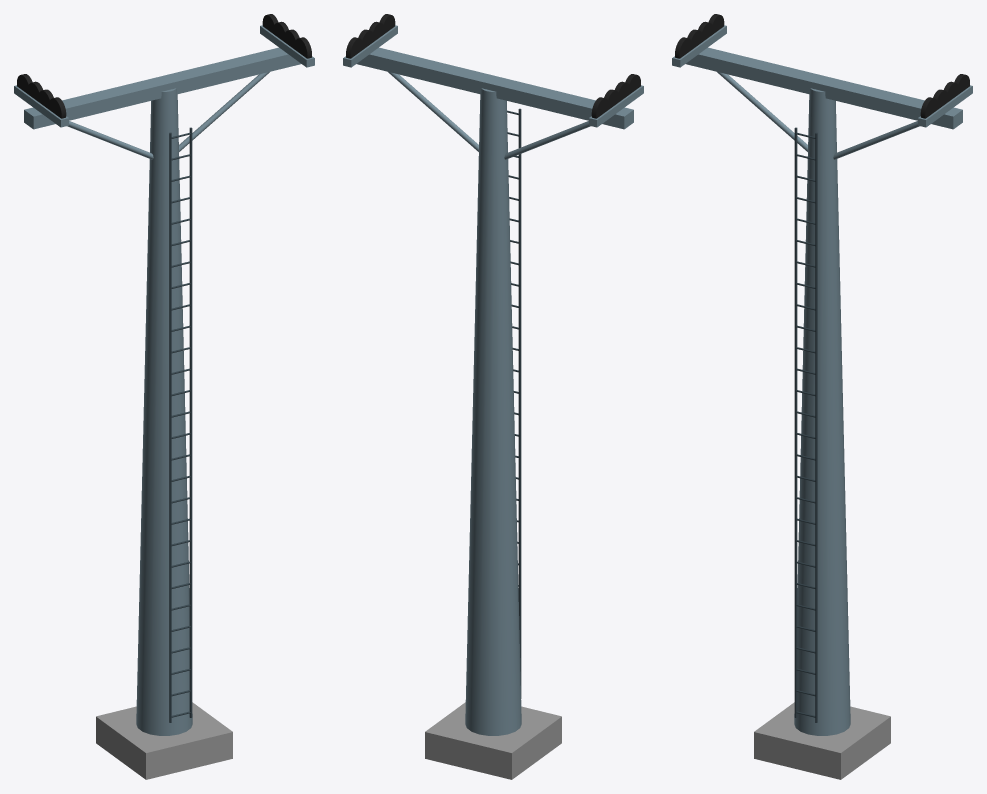
Rendered from pylon.glb.
3 renders of one model, left to right at view 1: azimuth 30°, elevation 25°; view 2: azimuth 150°, elevation 25°; view 3: azimuth 330°, elevation 25°, orthographic.
Parts seen in each view (by area): view 1: Tower, Footing, Crossarm, Ladder, Pylon, SheavesRight, SheavesLeft; view 2: Tower, Footing, Crossarm, Ladder, Pylon, SheavesRight, SheavesLeft; view 3: Tower, Footing, Crossarm, Ladder, Pylon, SheavesLeft, SheavesRight.
Part boxes in pixels (x1,y1,x2,y2): Tower: [136, 88, 192, 735]; Footing: [96, 702, 232, 779]; Crossarm: [24, 47, 300, 129]; Ladder: [169, 127, 192, 722]; Pylon: [67, 72, 269, 159]; SheavesRight: [260, 25, 314, 67]; SheavesLeft: [14, 85, 68, 127]; Tower: [465, 88, 521, 735]; Footing: [425, 702, 561, 779]; Crossarm: [357, 47, 633, 129]; Ladder: [507, 108, 521, 698]; Pylon: [388, 72, 590, 159]; SheavesRight: [343, 25, 397, 67]; SheavesLeft: [589, 85, 643, 127]; Tower: [794, 88, 850, 735]; Footing: [754, 702, 890, 779]; Crossarm: [686, 47, 962, 129]; Ladder: [794, 127, 817, 722]; Pylon: [717, 72, 919, 159]; SheavesLeft: [672, 25, 726, 67]; SheavesRight: [918, 85, 972, 127].
Bounding box in the file's own units: 5.3 × 12.95 × 1.7.
